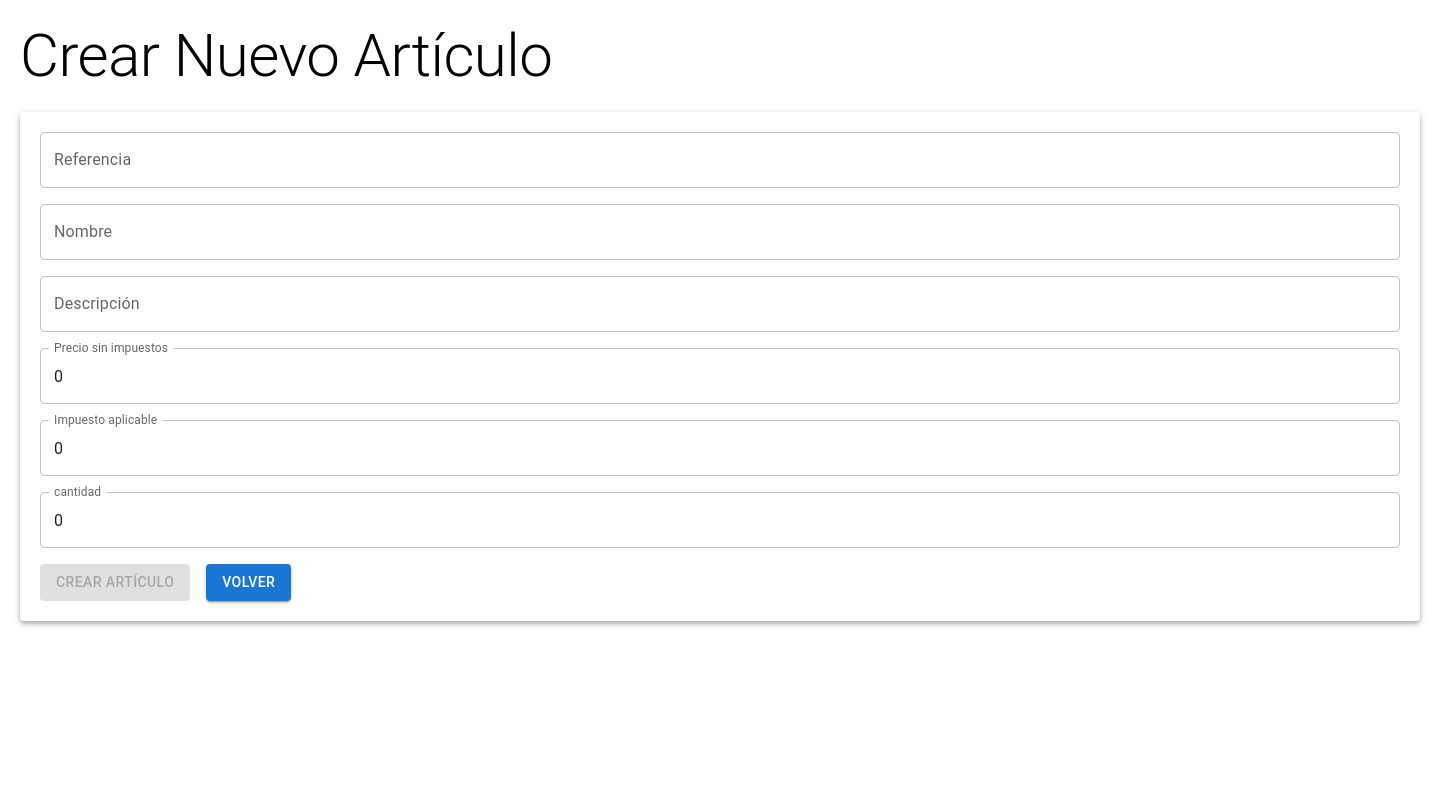
NewArticle › create new article fail
In the field labelled "Referencia": (720, 160) [40,132,1400,188], type "REF002"
In the field labelled "Nombre": (720, 232) [40,204,1400,260], type "article"
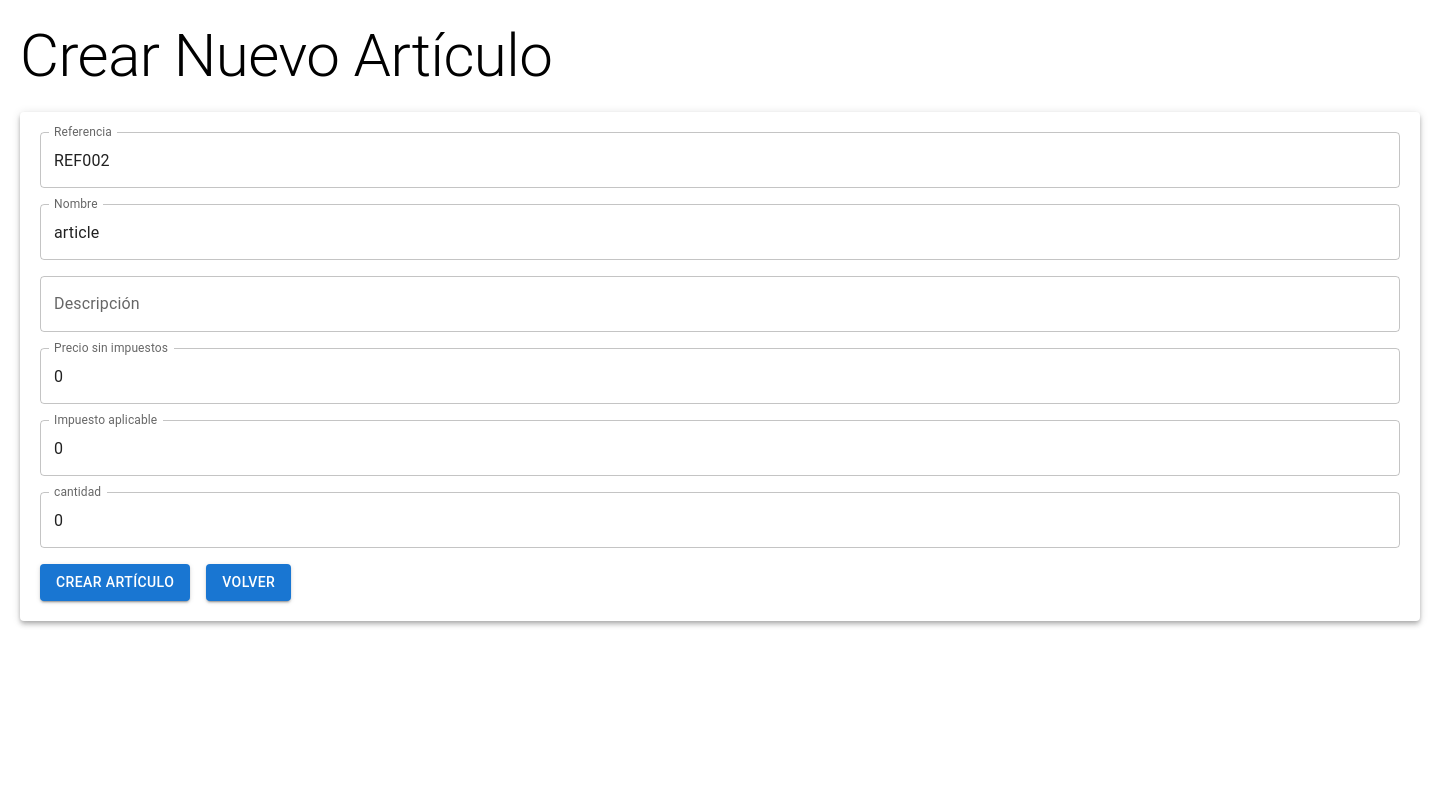
In the field labelled "Descripción": (720, 304) [40,276,1400,332], type "article test"
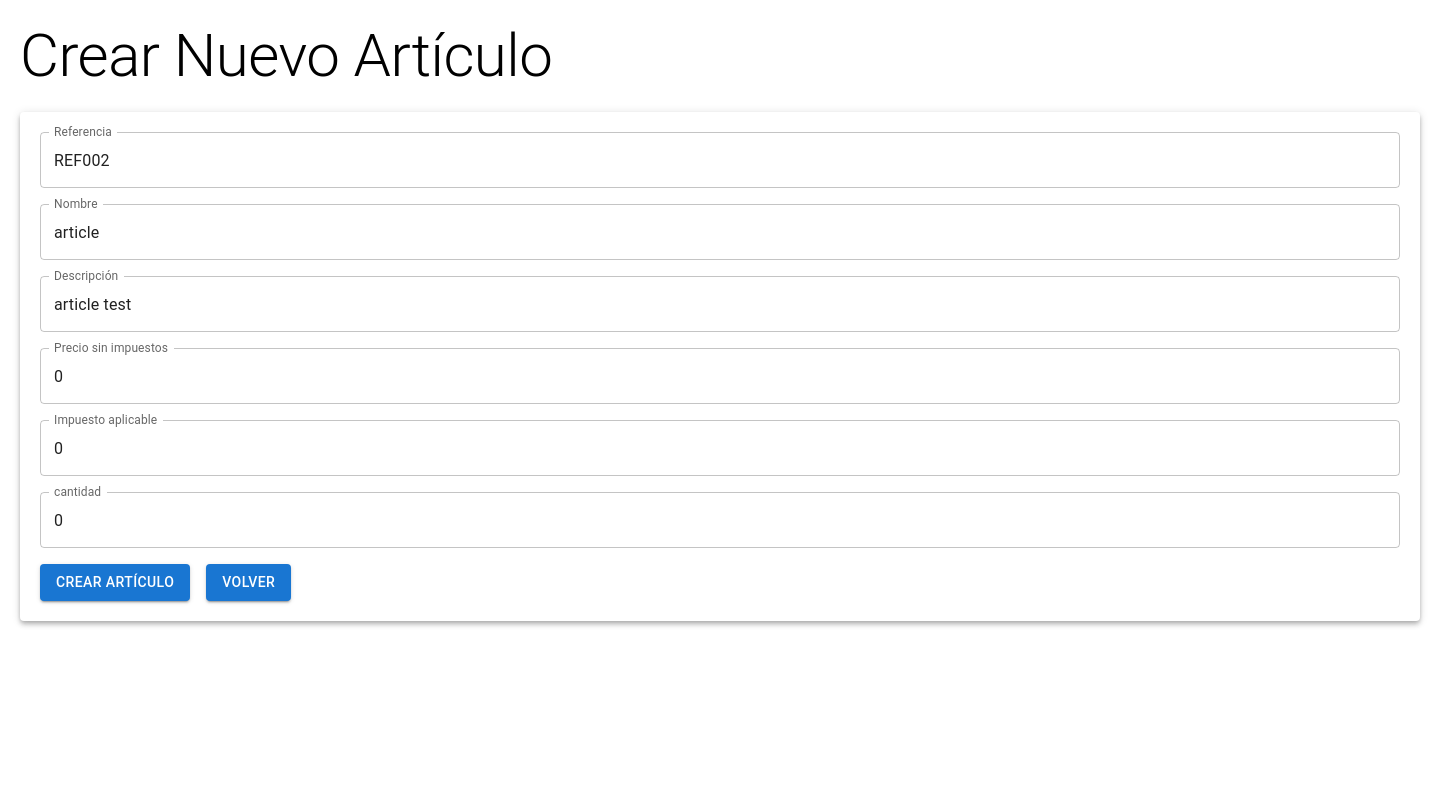
Replace the text in the field labelled "Precio sin impuestos" with "300": (720, 376) [40,348,1400,404]
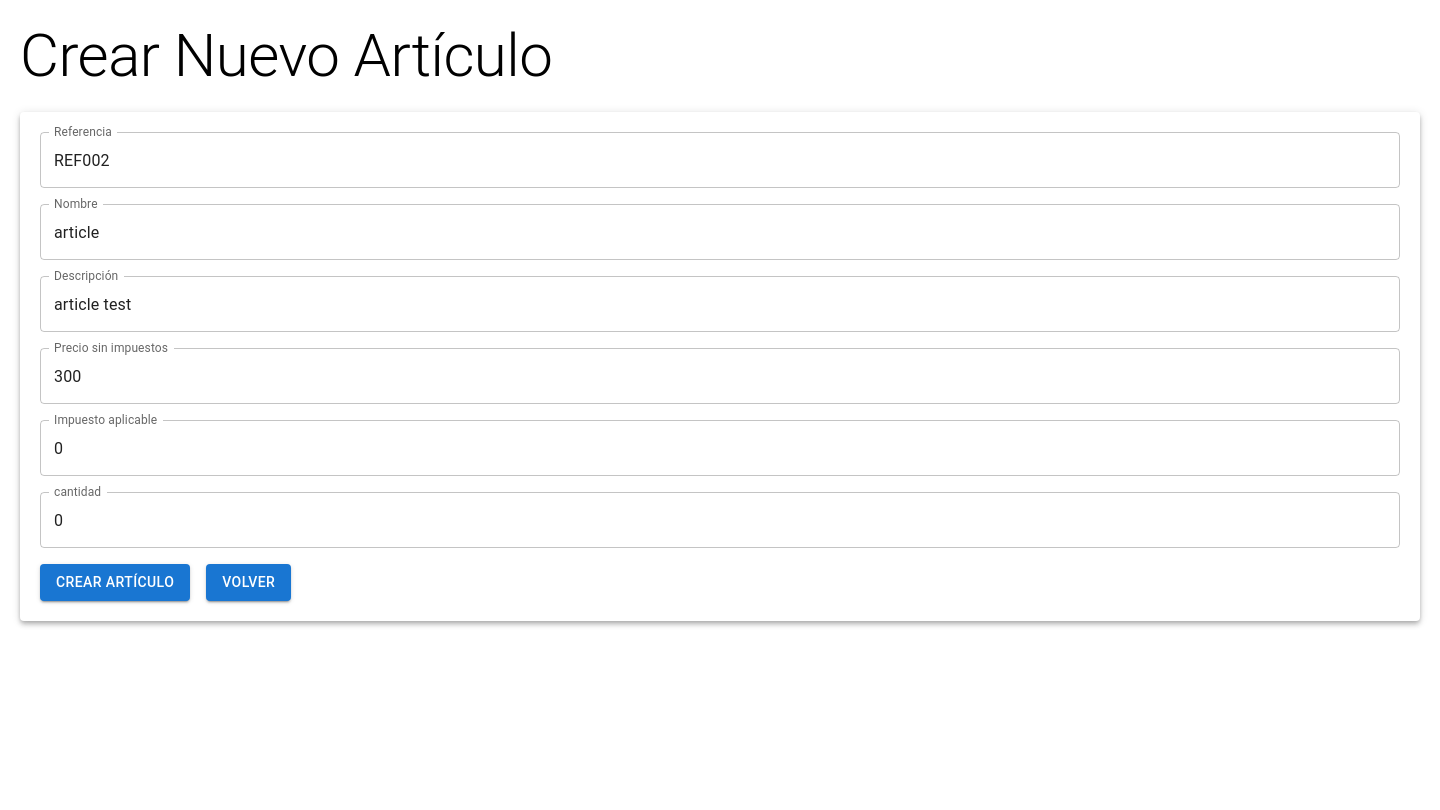
Replace the text in the number field labelled "Impuesto aplicable" with "0.2": (720, 448) [40,420,1400,476]
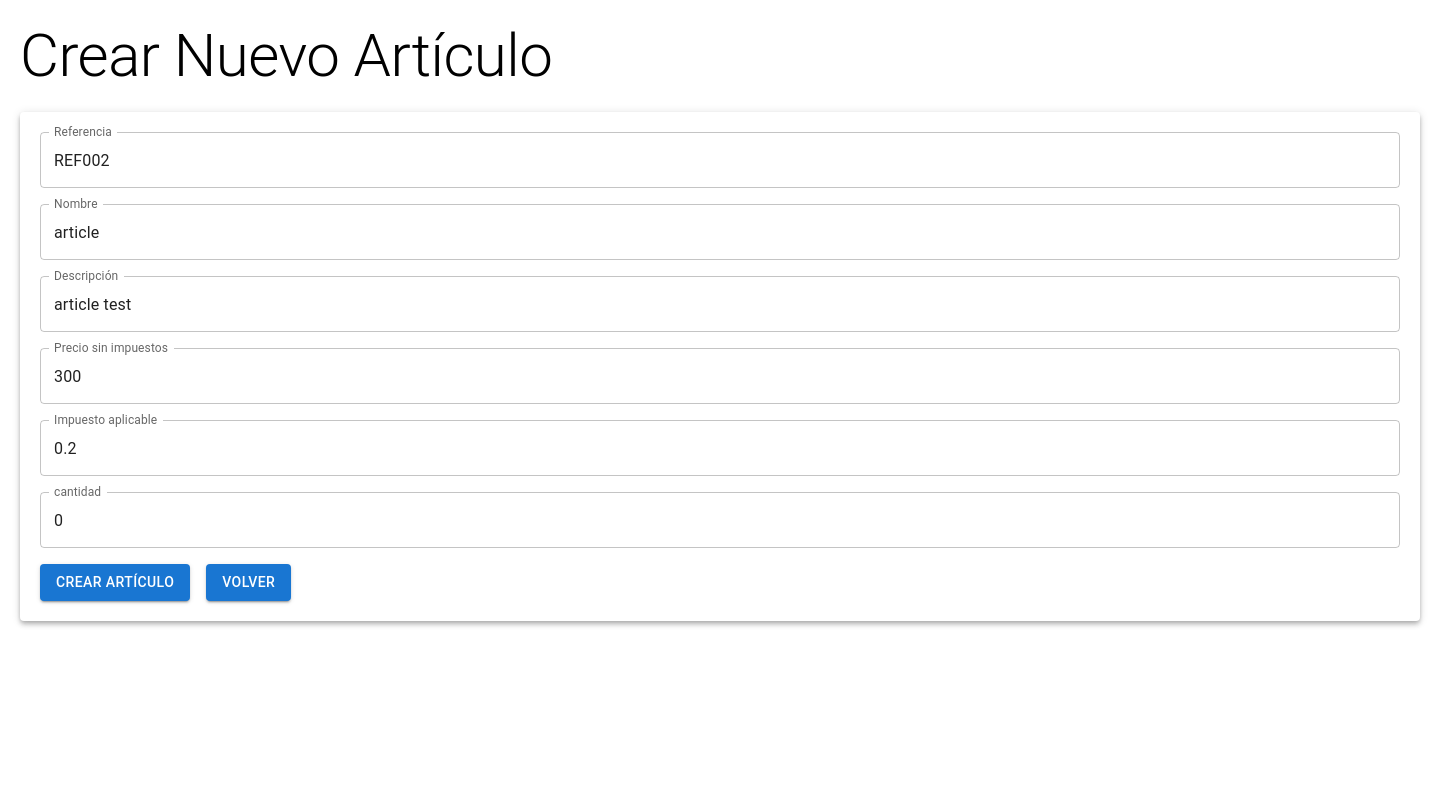
Replace the text in the field labelled "cantidad" with "30": (720, 520) [40,492,1400,548]
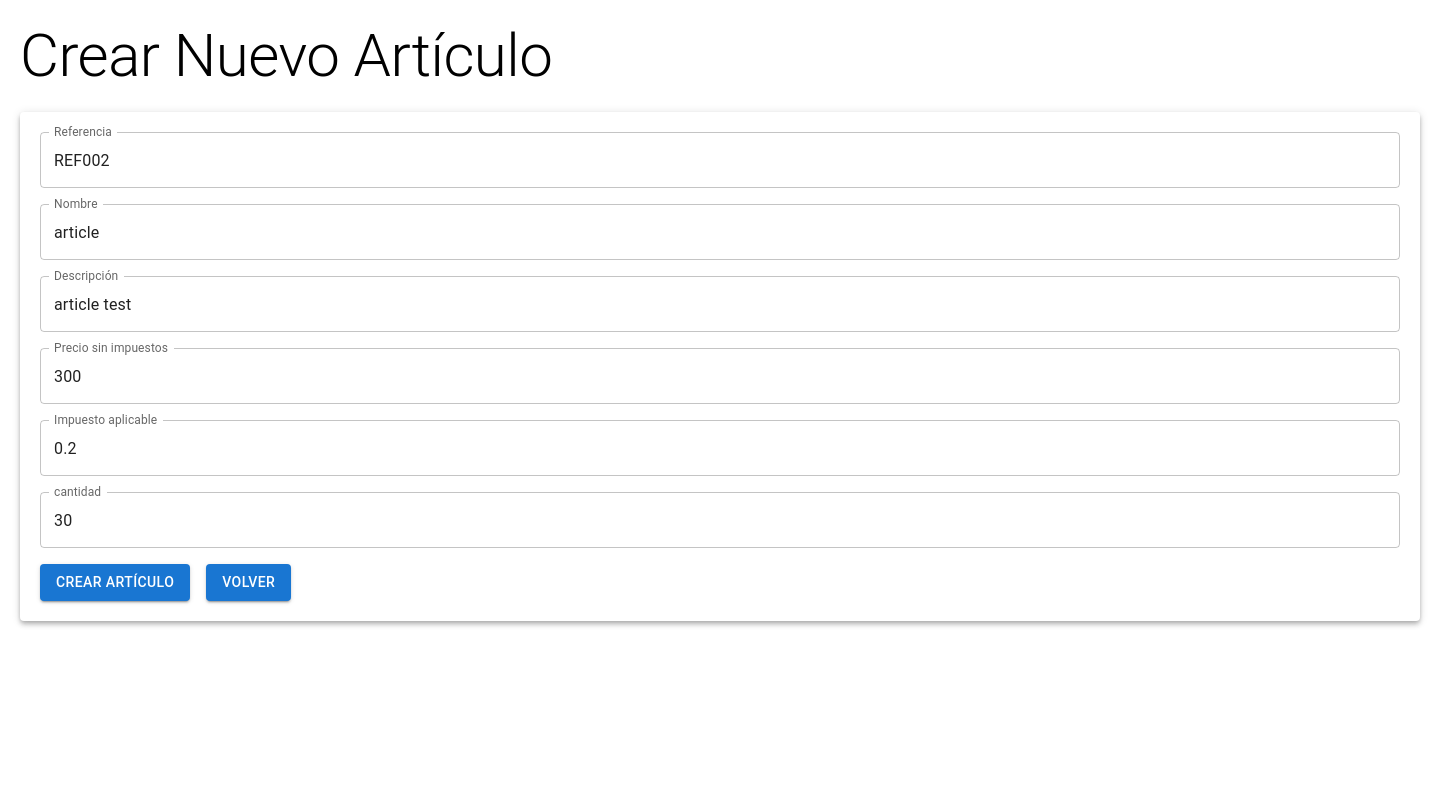
Click the button "Crear Artículo": (115, 582) [40,564,190,600]
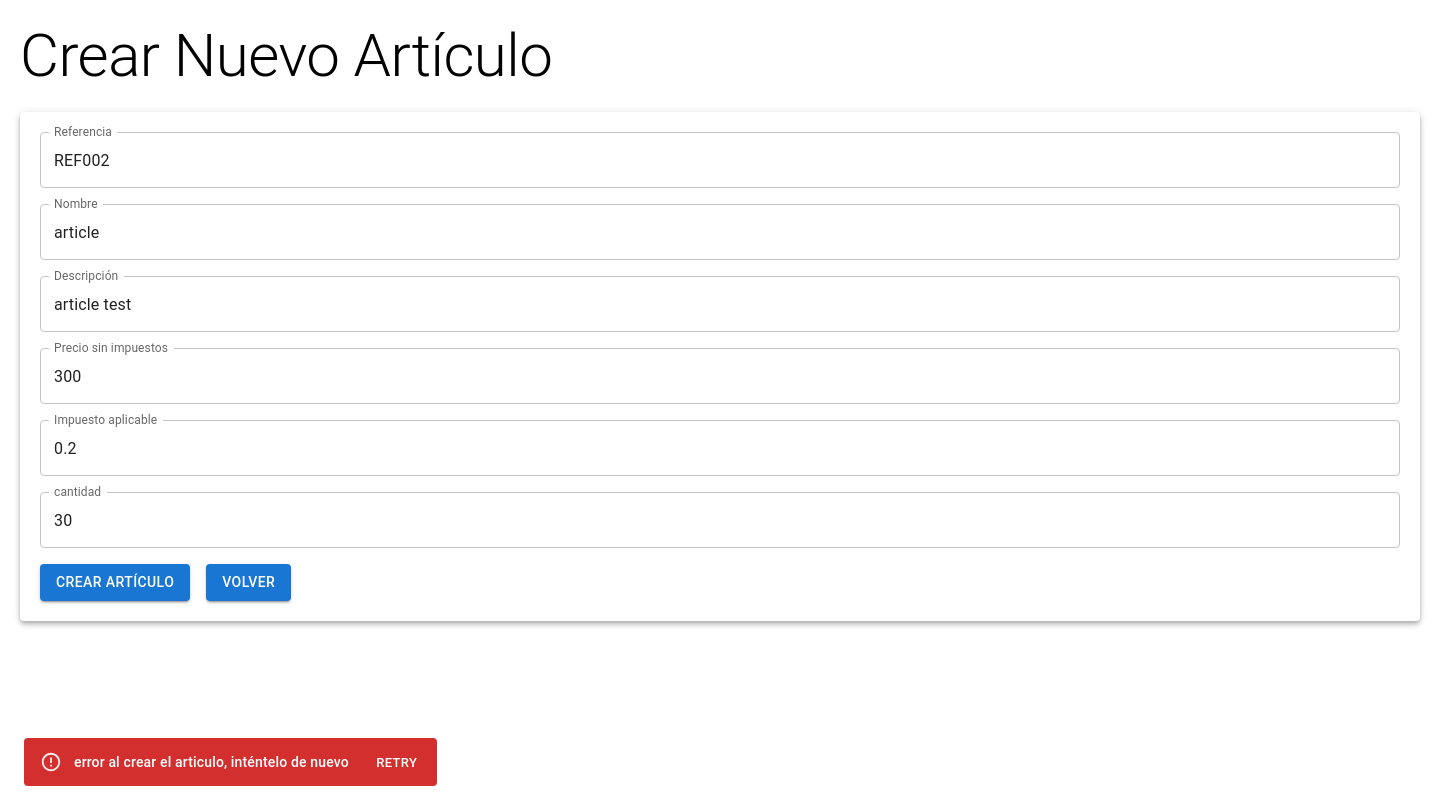
Expected: the text "error al crear el articulo, inténtelo de nuevo" is shown, [74,754,349,770]
Expected: the button "Retry" is shown, [365,748,429,779]
